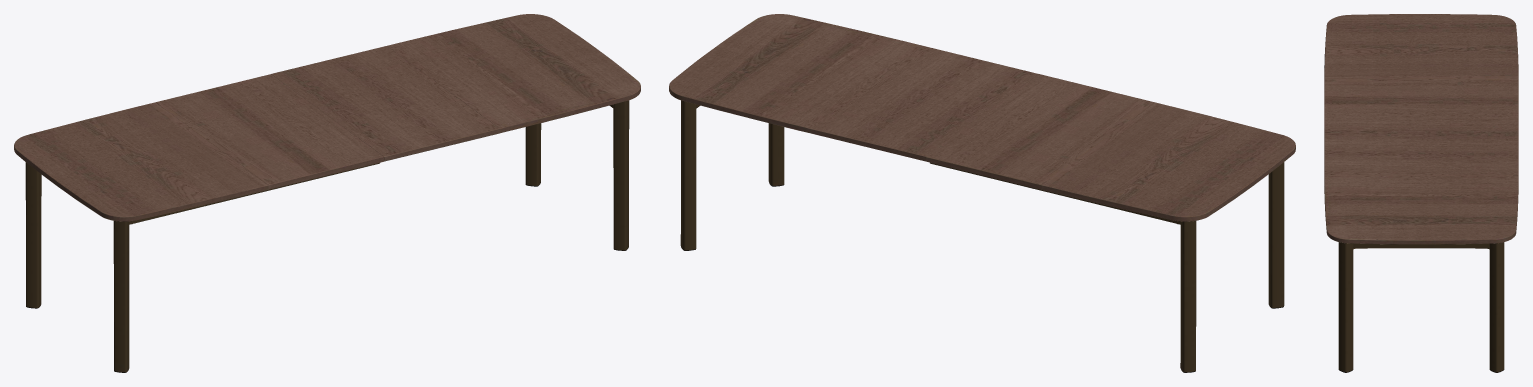
Rendered from strandtorp_sto_rozkadany_80388587.glb.
3 renders of one model, left to right at view 1: azimuth 30°, elevation 25°; view 2: azimuth 150°, elevation 25°; view 3: azimuth 270°, elevation 25°, orthographic. The views are drawn at different scales.
Visible parts, largest first — view 1: strandtorp_sto_rozkadany_80388587; view 2: strandtorp_sto_rozkadany_80388587; view 3: strandtorp_sto_rozkadany_80388587.
Boxes of the visible parts, x1,y1,x2,y2 form: strandtorp_sto_rozkadany_80388587: (14, 14, 640, 372); strandtorp_sto_rozkadany_80388587: (669, 14, 1295, 372); strandtorp_sto_rozkadany_80388587: (1324, 14, 1518, 372).
Size of the model in its own units: 2.62 by 0.7481 by 0.9501.
Materials: 1 (1 with a texture image).
